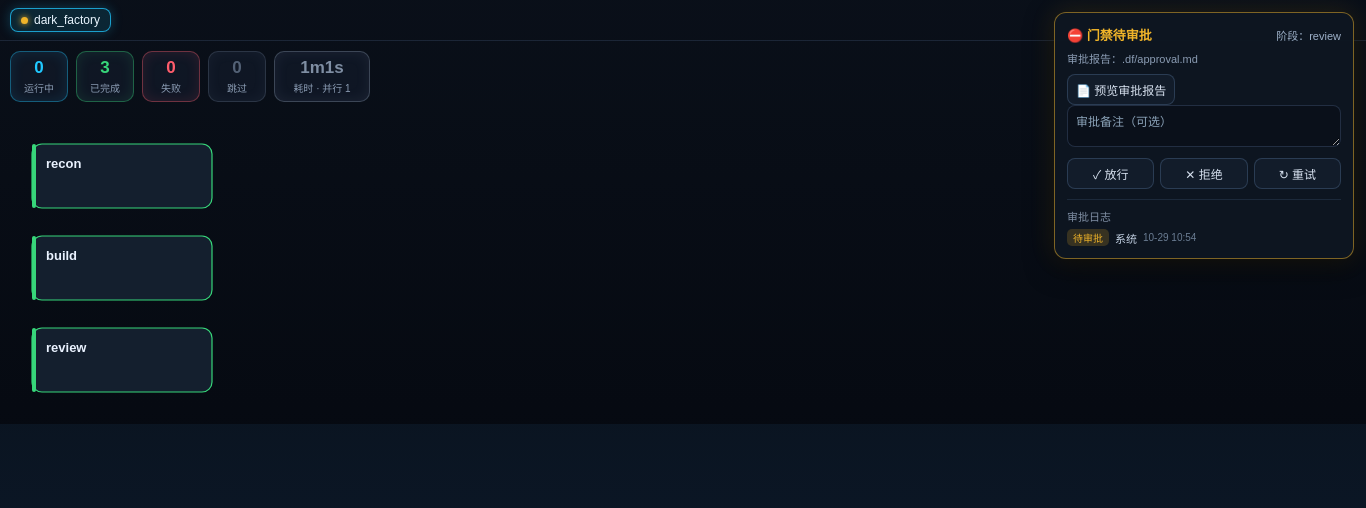
Test: OrchestrationView 审批报告预览 › 未注入 fetchFileContent 时提示不支持预览
Click the button with class "is-preview" at (1121, 90), box 1067,74 -> 1175,105
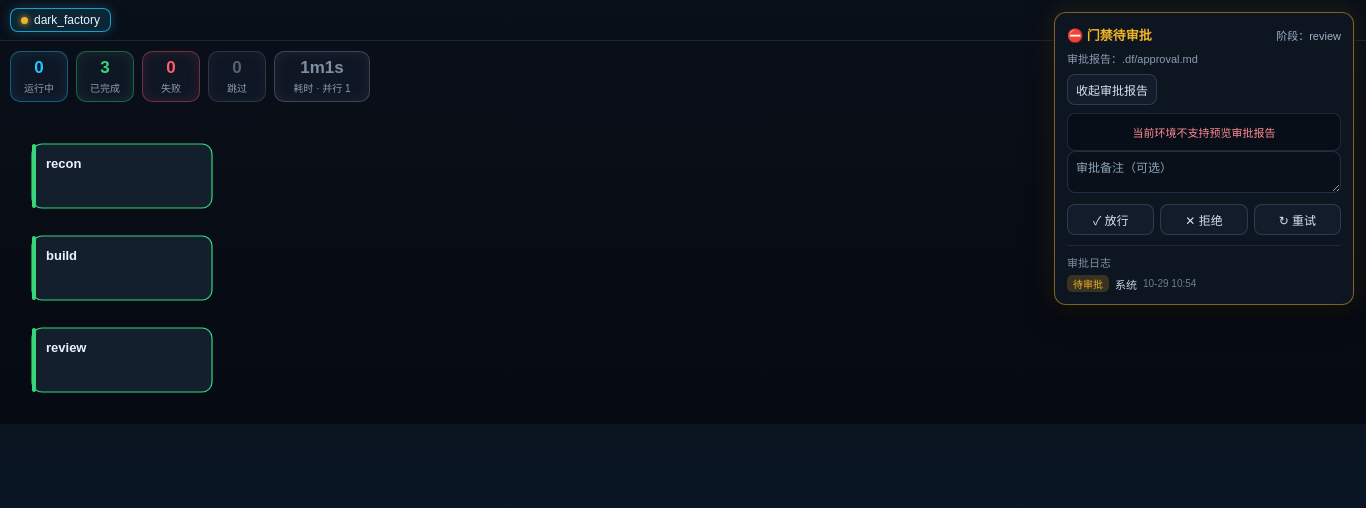
Expected: the text with class "is-err" shows "不支持预览审批报告", 1132,127 -> 1276,139
